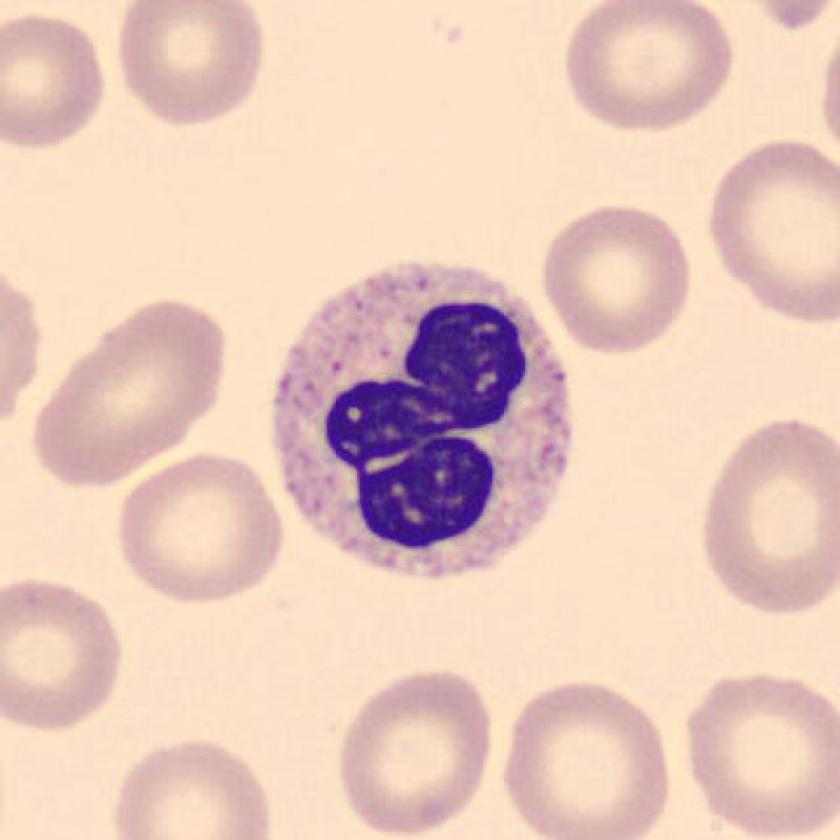neutrophil: (274, 264, 572, 579)
